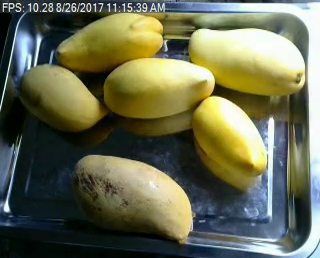Mango: (75, 154, 191, 243), (191, 27, 305, 95), (101, 58, 216, 116), (195, 93, 268, 177), (16, 66, 108, 131), (59, 15, 163, 69)
